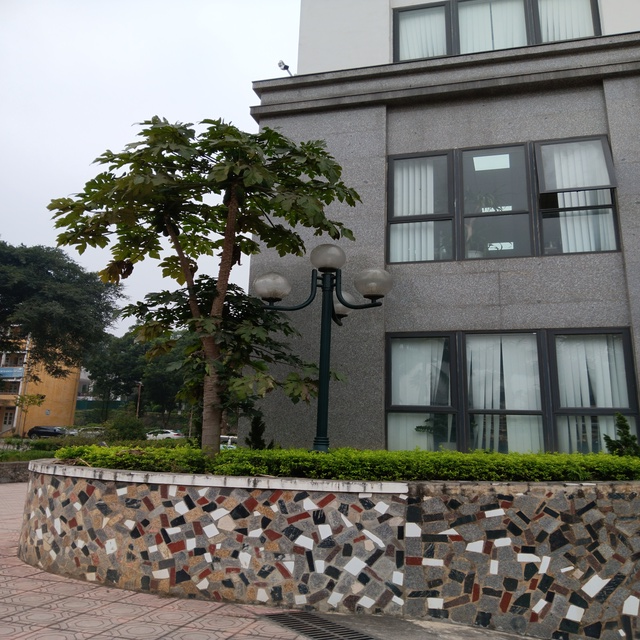caycanh: (97, 409, 150, 449)
